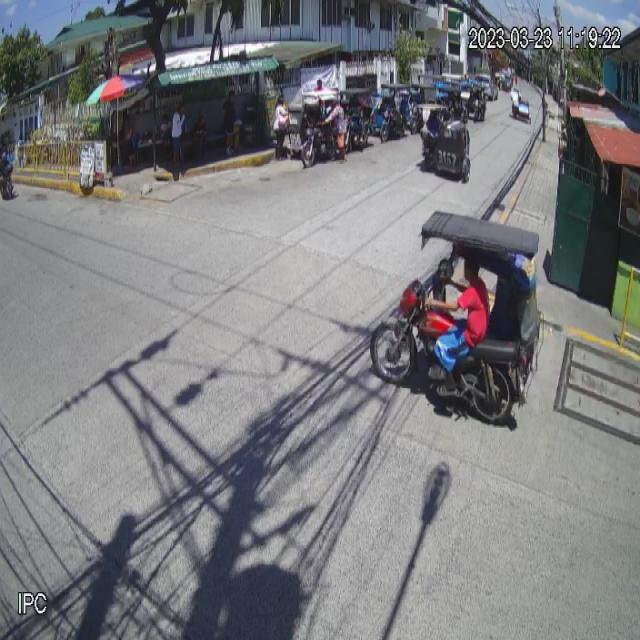Tricycle: (369, 209, 546, 426), (416, 103, 472, 184)
